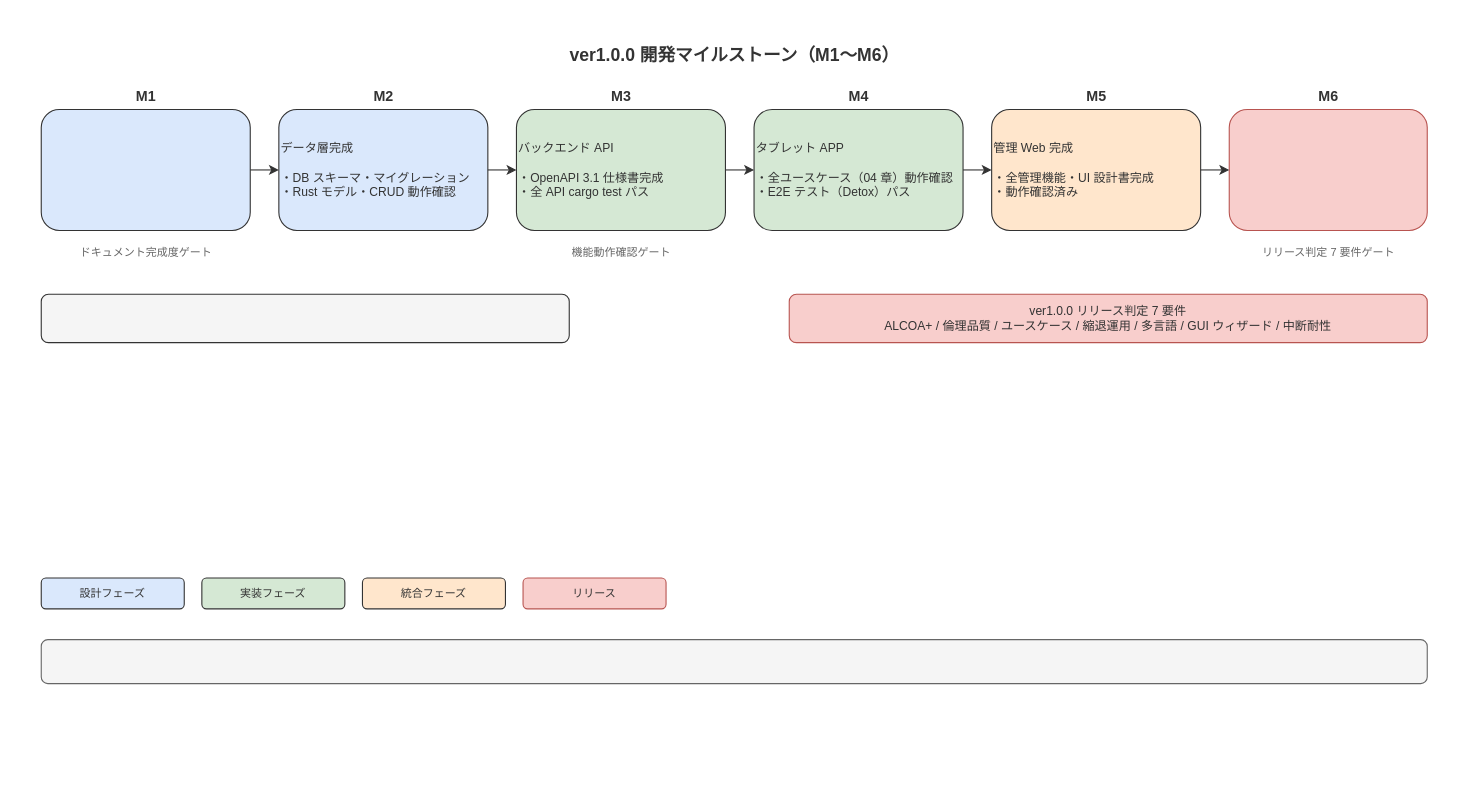
Image size: 1467x785. Some labels were removed from this diagram. Here are the shapes that lost their labels. From the top down, the centre of each, then its label:
At point 145,169: "設計完成 ・要件定義書完成 ・概要設計書完成".
At point 1327,169: "ver1.0.0 リリース ・ALCOA+ 自己監査 通過 ・倫理品質チェック 通過 ・30 日パイロット完了".
At point 304,318: "完了条件（全共通） ドキュメント完成 + 機能動作確認".
At point 733,661: "方針: phase なし — ver1.0.0 = プロダクションレベル品質 / ドキュメント先行・実装後追いの絶対原則 / ADR で不可逆判断を記録".
